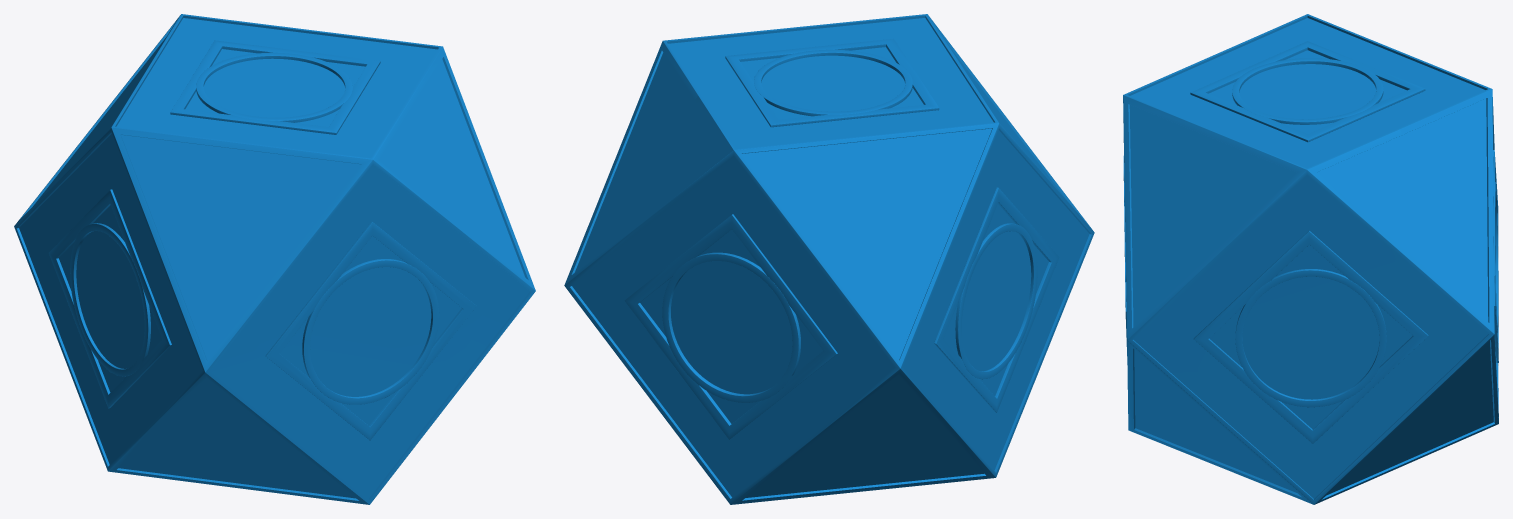
3 views of the same model, side by side, from view 1: azimuth 30°, elevation 25°; view 2: azimuth 150°, elevation 25°; view 3: azimuth 270°, elevation 25° (orthographic). The views are drawn at different scales.
Parts seen in each view (by area): view 1: base; view 2: base; view 3: base.
Boxes of the visible parts, bbox=[...] form: base: bbox=[14, 14, 535, 504]; base: bbox=[564, 14, 1094, 504]; base: bbox=[1123, 14, 1498, 504].
Size of the model in its own units: 10.34 by 10.48 by 10.46.
